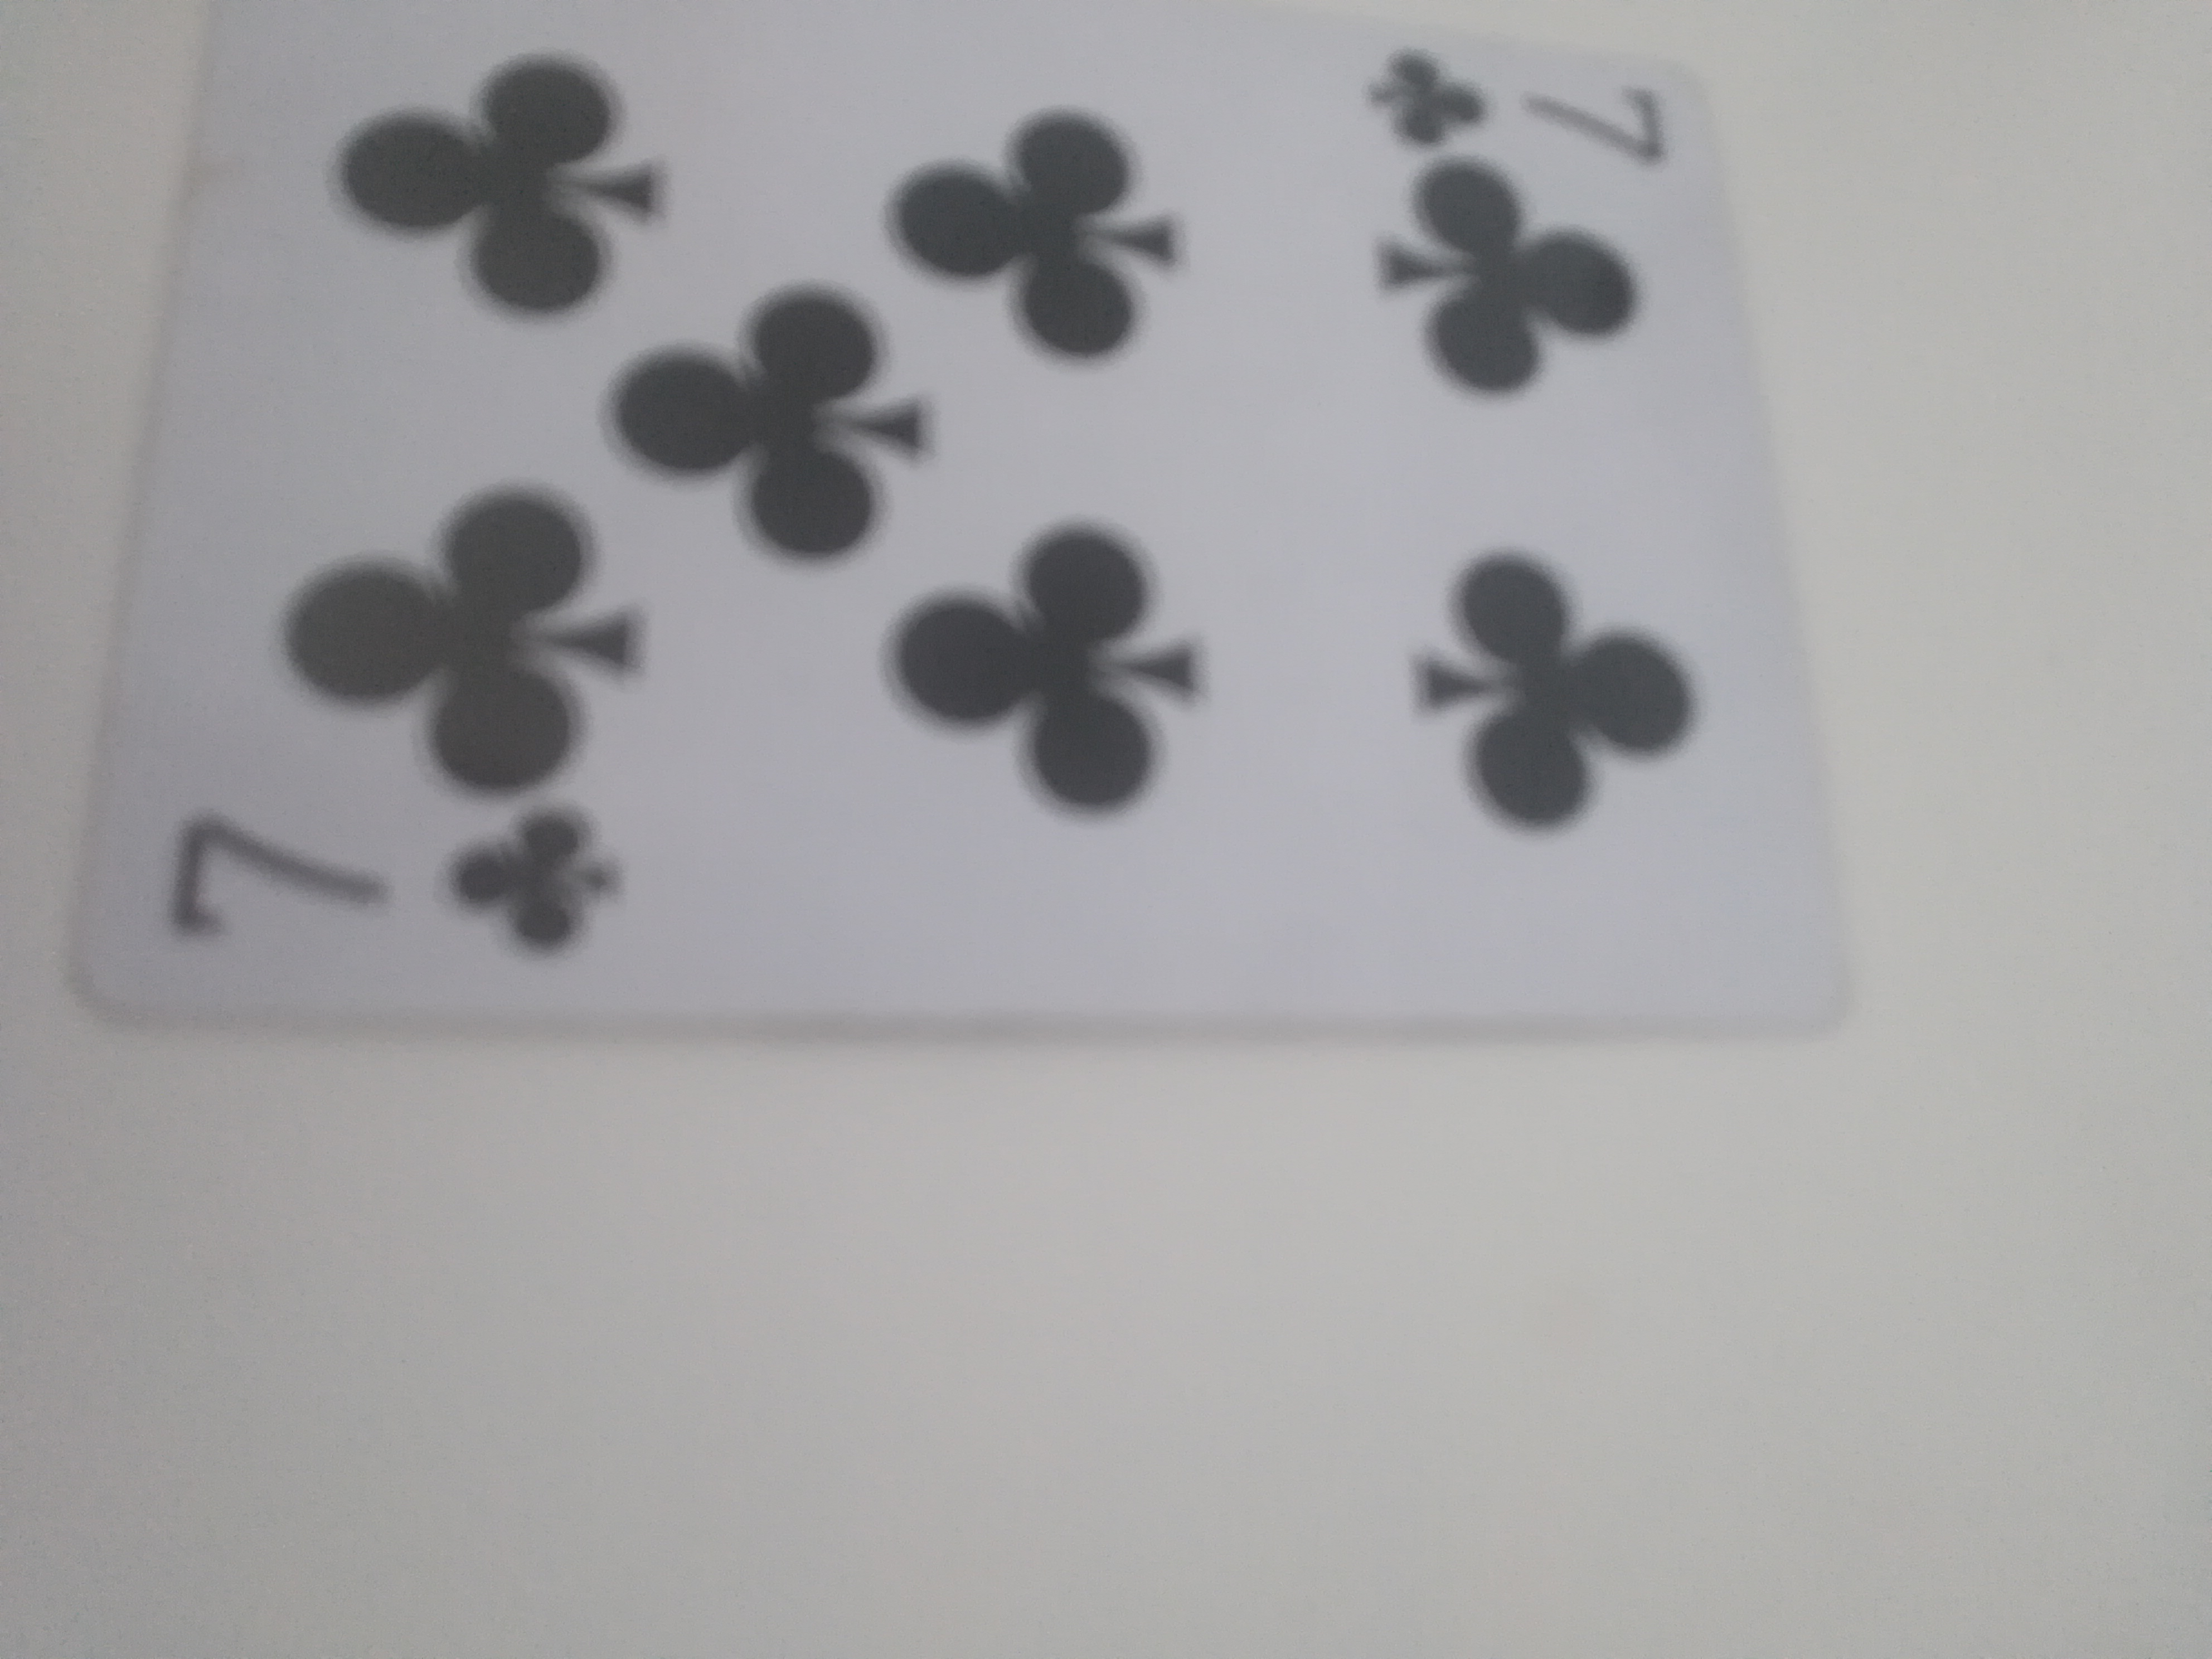7C: (59, 0, 1808, 1039)
